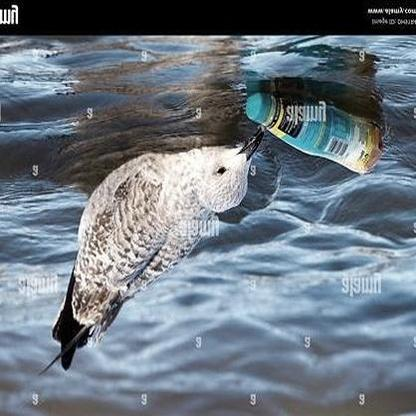plastic bottle: (244, 93, 383, 172)
